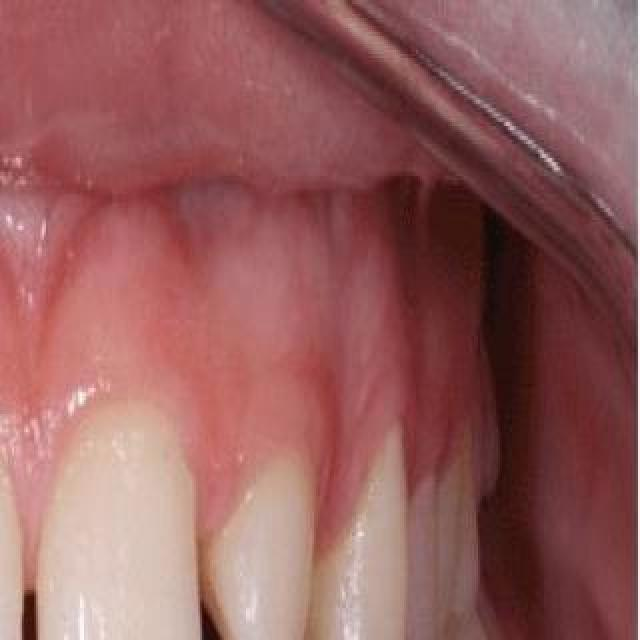missing: (184, 528, 230, 640)
plaque: (93, 403, 193, 547), (0, 414, 22, 570)
spacing: (18, 484, 48, 640)
